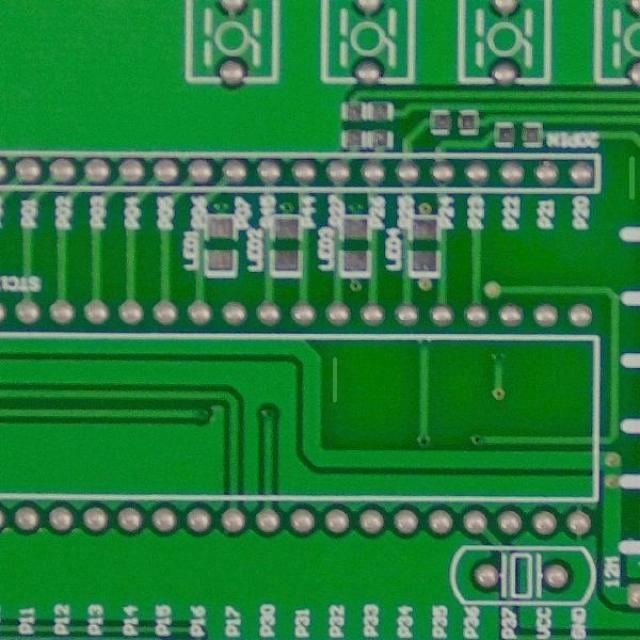Spurious_Cooper: (326, 351, 344, 409), (623, 154, 638, 206)
